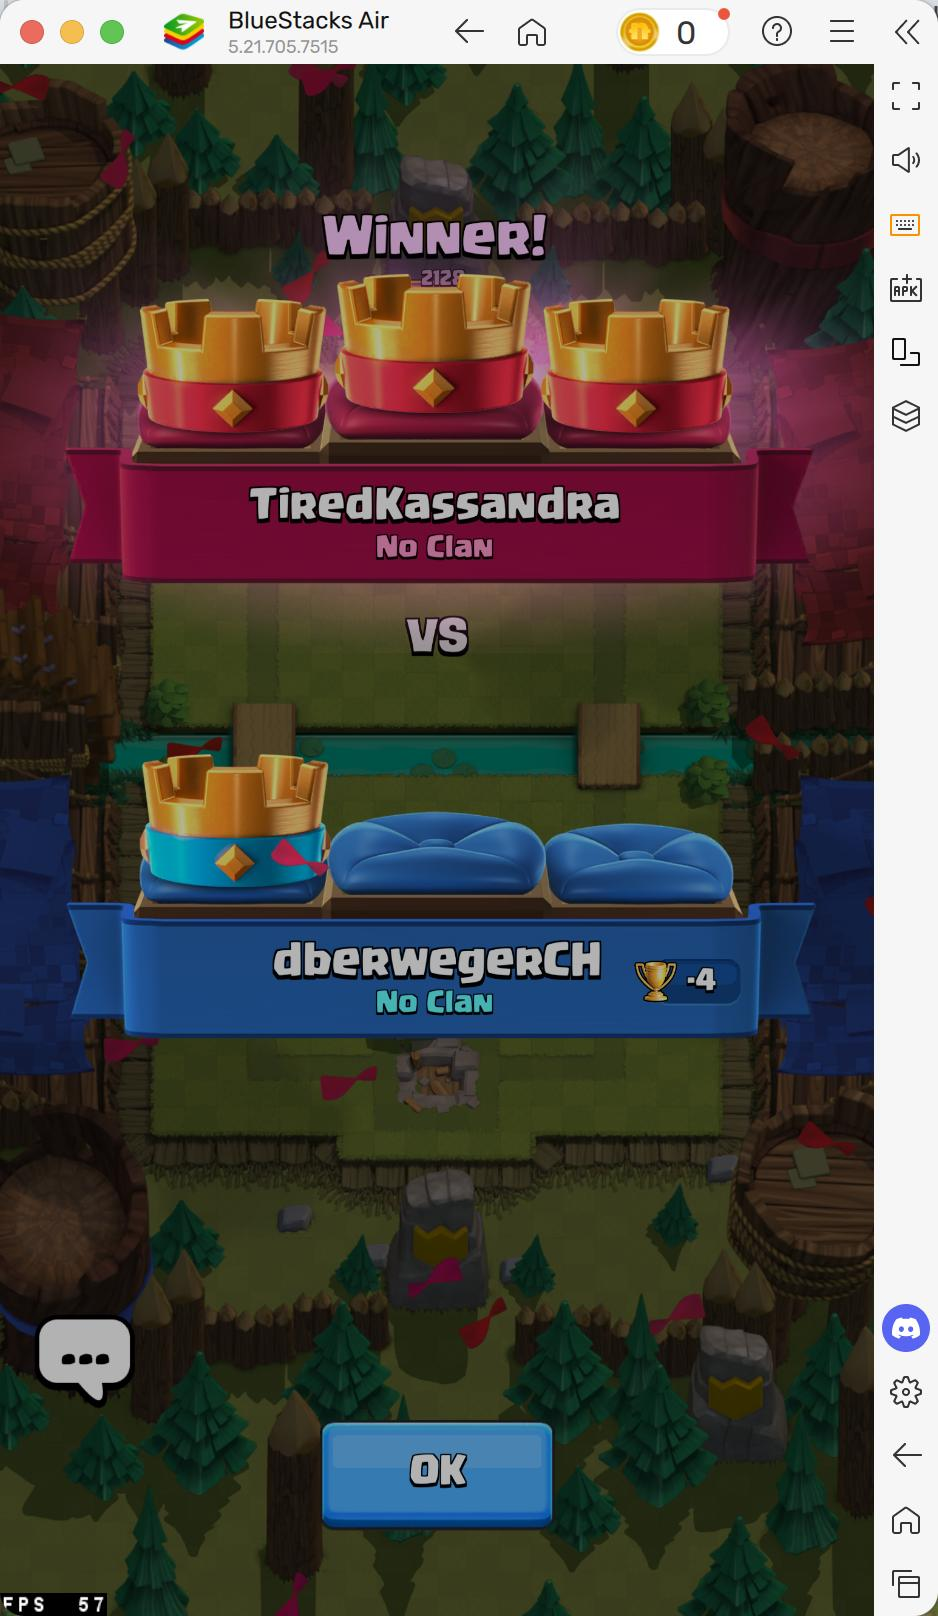16: (323, 1420, 556, 1530)
OK: (315, 192, 558, 271)
